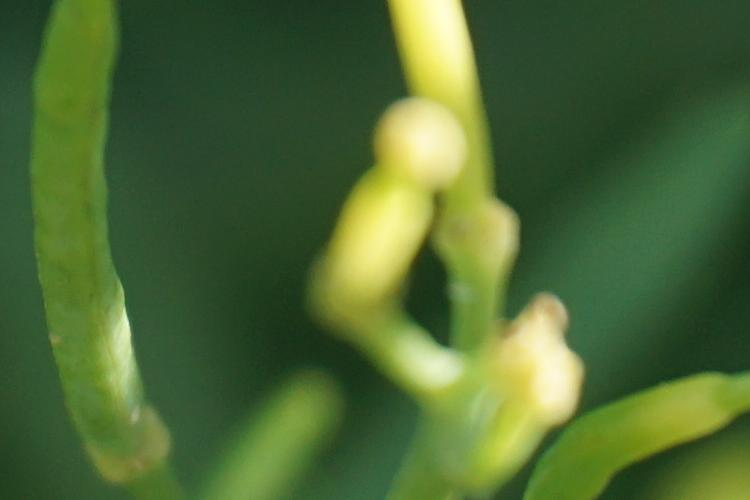pod: (26, 15, 178, 471)
